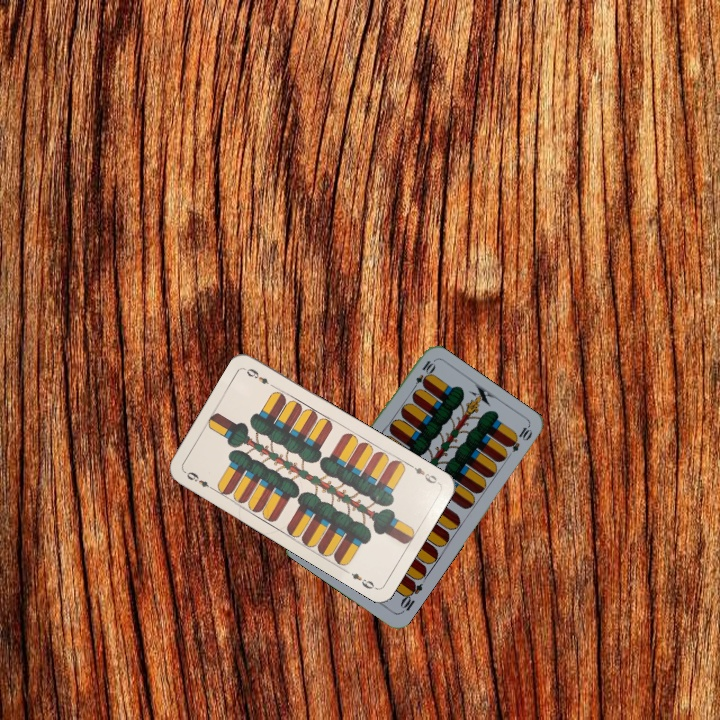E10: (396, 577, 425, 616), (408, 356, 437, 394)
E9: (405, 460, 442, 486), (182, 467, 217, 493)
